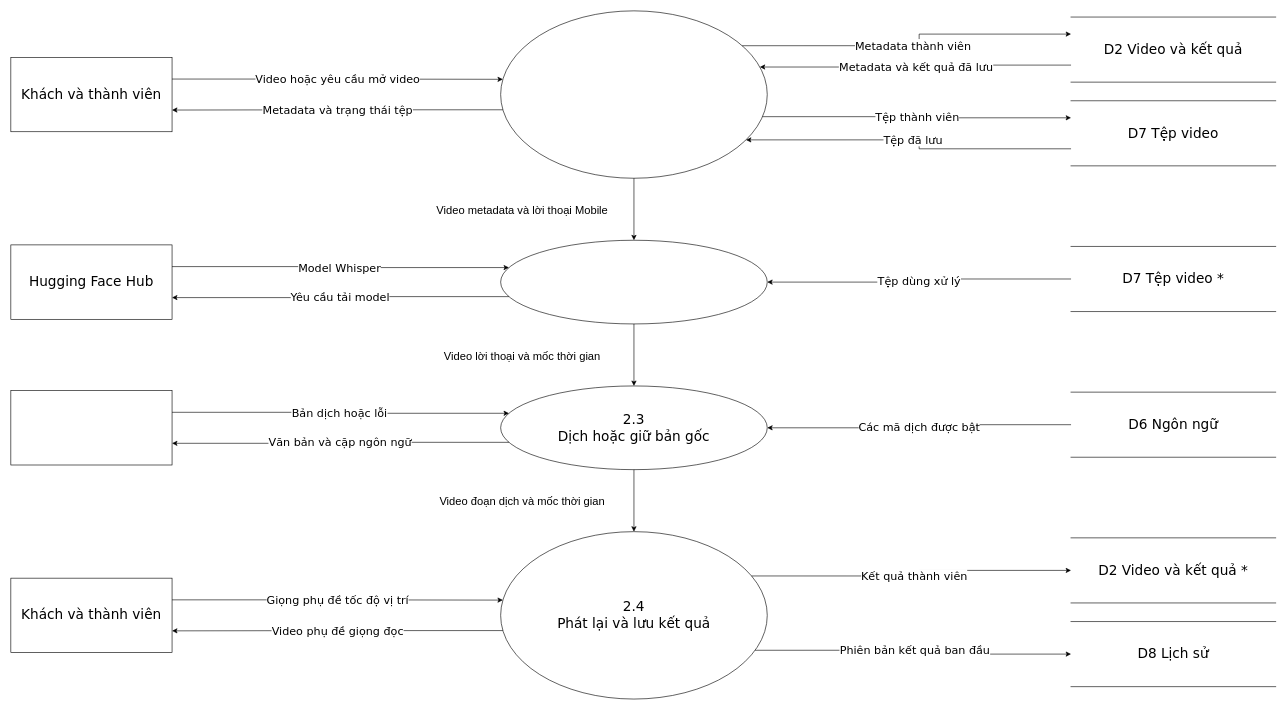
The diagram is 1287 pixels wide and 710 high, and some of its shapes have lost their labels. The shapes that lost their labels are listed below. From the top down, each one's centre as x and y in pixels, then its label:
At pixel 633 94: "2.1 Tiếp nhận và đọc video đã lưu".
At pixel 633 282: "2.2 Lời thoại Mobile hoặc Whisper".
At pixel 91 427: "MyMemory".
